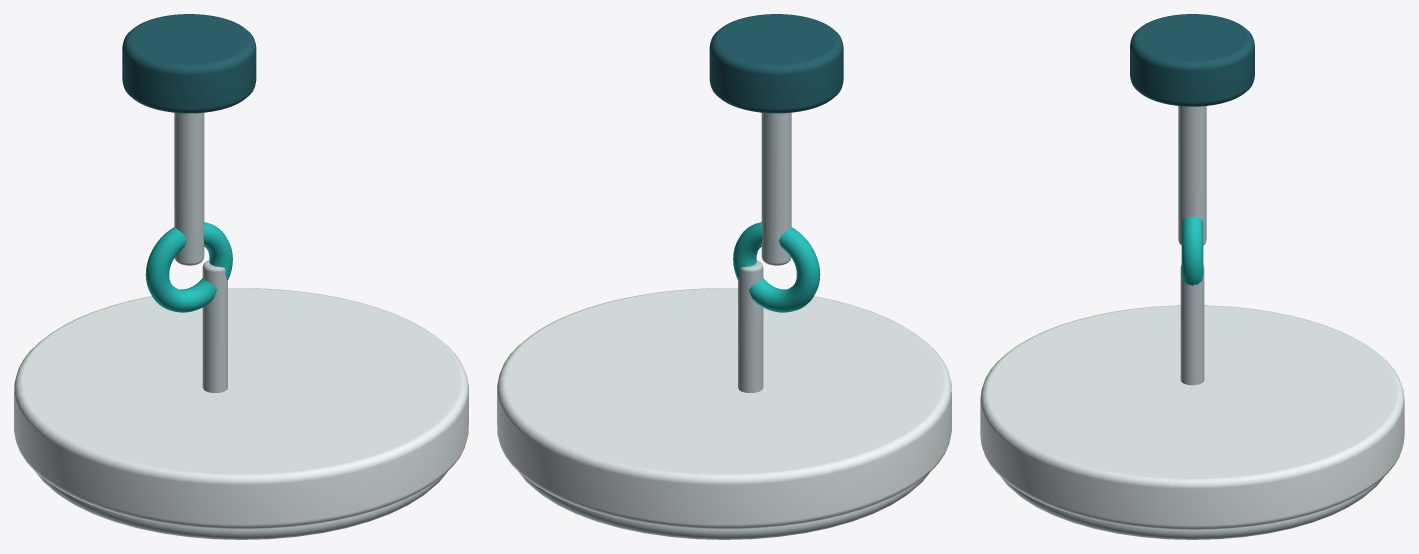
File: Lampara_Quirurgica.fbx
3 renders of one model, left to right at view 1: azimuth 30°, elevation 25°; view 2: azimuth 150°, elevation 25°; view 3: azimuth 270°, elevation 25°, orthographic. The views are drawn at different scales.
Parts seen in each view (by area): view 1: Carcasa_circular_de_lampara, Anclaje_de_techo, Brazo_articulado_superior, Articulacion_giratoria, Borde_cromado, Brazo_articulado_inferior; view 2: Carcasa_circular_de_lampara, Anclaje_de_techo, Brazo_articulado_superior, Articulacion_giratoria, Borde_cromado, Brazo_articulado_inferior; view 3: Carcasa_circular_de_lampara, Anclaje_de_techo, Brazo_articulado_superior, Borde_cromado, Brazo_articulado_inferior, Articulacion_giratoria.
Part boxes in pixels (x1=…): Carcasa_circular_de_lampara: x1=14, y1=288, x2=468, y2=529; Anclaje_de_techo: x1=122, y1=14, x2=256, y2=113; Brazo_articulado_superior: x1=174, y1=112, x2=204, y2=265; Articulacion_giratoria: x1=145, y1=222, x2=232, y2=312; Borde_cromado: x1=36, y1=471, x2=447, y2=539; Brazo_articulado_inferior: x1=202, y1=260, x2=227, y2=392; Carcasa_circular_de_lampara: x1=497, y1=288, x2=951, y2=529; Anclaje_de_techo: x1=709, y1=14, x2=843, y2=113; Brazo_articulado_superior: x1=761, y1=112, x2=791, y2=265; Articulacion_giratoria: x1=733, y1=222, x2=820, y2=312; Borde_cromado: x1=518, y1=471, x2=929, y2=539; Brazo_articulado_inferior: x1=738, y1=260, x2=763, y2=392; Carcasa_circular_de_lampara: x1=980, y1=305, x2=1404, y2=529; Anclaje_de_techo: x1=1130, y1=14, x2=1254, y2=106; Brazo_articulado_superior: x1=1178, y1=106, x2=1206, y2=245; Borde_cromado: x1=1000, y1=476, x2=1384, y2=539; Brazo_articulado_inferior: x1=1180, y1=265, x2=1204, y2=385; Articulacion_giratoria: x1=1181, y1=217, x2=1203, y2=285.
Size of the model in its own units: 1.36 by 1.44 by 1.36.
